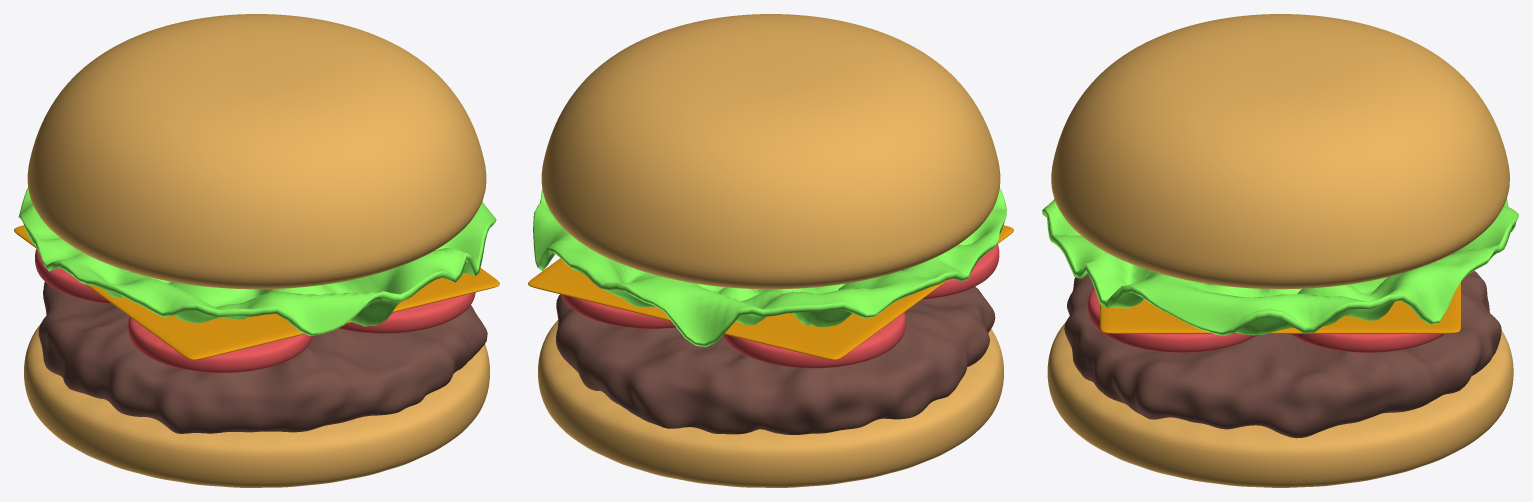
The model's file is my_burger2.glb.
The picture shows the model from 3 angles, left to right: view 1: azimuth 30°, elevation 25°; view 2: azimuth 150°, elevation 25°; view 3: azimuth 270°, elevation 25°; orthographic projection.
Parts seen in each view (by area): view 1: 球.001, 円柱.001, 円柱, 球, 円柱.002, 平面; view 2: 球.001, 円柱.001, 円柱, 球, 平面, 円柱.002; view 3: 球.001, 円柱.001, 円柱, 球, 平面, 円柱.002.
Part boxes in pixels (x1,y1,x2,y2): 球.001: (27, 14, 486, 289); 円柱.001: (38, 282, 487, 433); 円柱: (24, 324, 489, 487); 球: (18, 188, 496, 335); 円柱.002: (35, 249, 475, 372); 平面: (14, 225, 499, 360); 球.001: (541, 14, 1000, 289); 円柱.001: (555, 286, 995, 434); 円柱: (538, 320, 1003, 487); 球: (533, 188, 1006, 346); 平面: (528, 225, 1013, 360); 円柱.002: (560, 244, 999, 368); 球.001: (1051, 14, 1509, 289); 円柱.001: (1064, 270, 1501, 438); 円柱: (1047, 322, 1513, 487); 球: (1042, 198, 1518, 336); 平面: (1100, 282, 1460, 333); 円柱.002: (1088, 288, 1444, 352).
Bounding box in the file's own units: 2 × 1.6 × 2.03.
